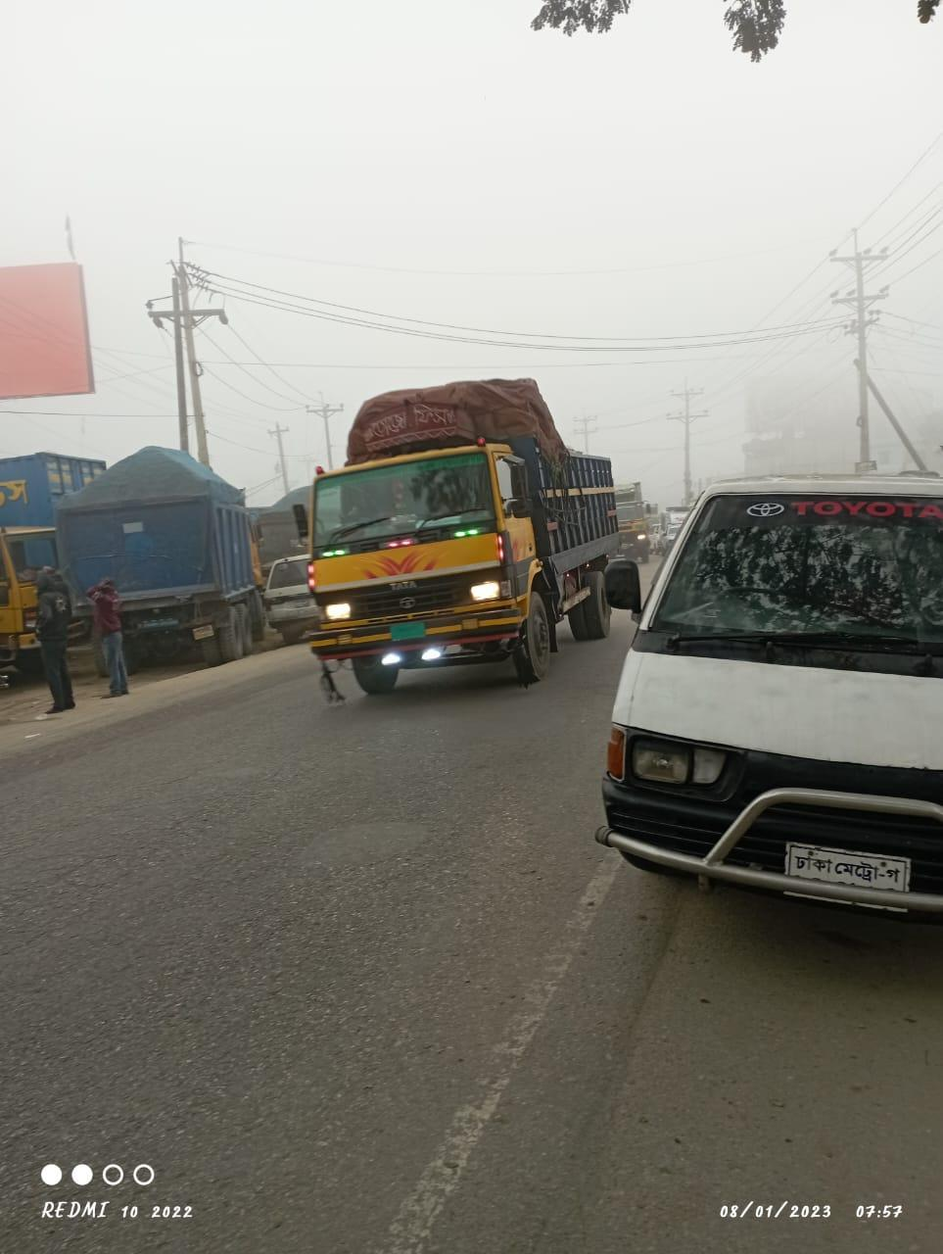Car: (597, 458, 943, 960)
Truck: (299, 373, 615, 699), (52, 443, 268, 661)
